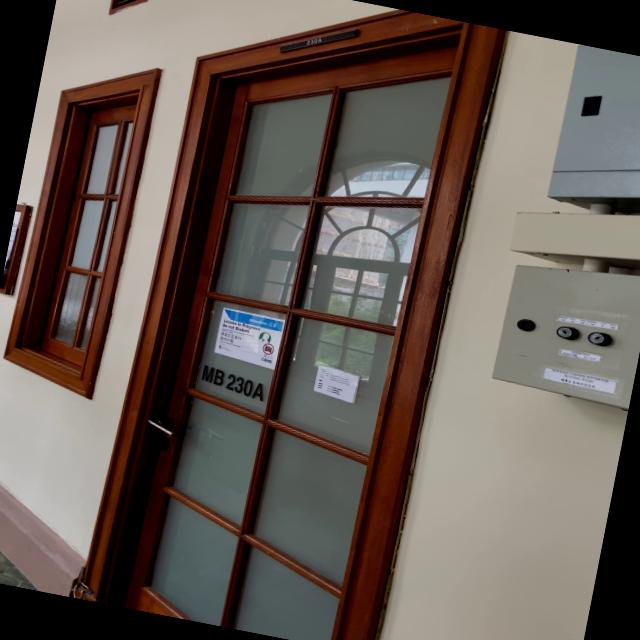room230A: (278, 15, 360, 68)
room230AWindow: (196, 362, 270, 403)
